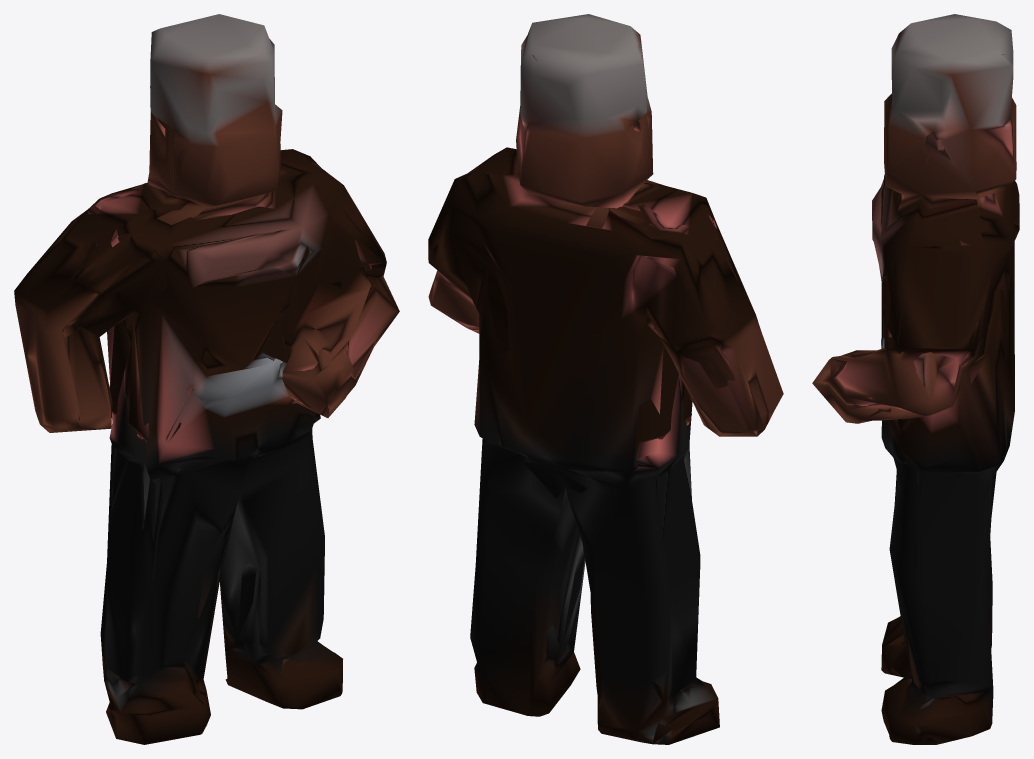
File: gen3d-gang-lod0.glb
3 views of the same model, side by side, from view 1: azimuth 30°, elevation 25°; view 2: azimuth 150°, elevation 25°; view 3: azimuth 270°, elevation 25° (orthographic). The views are drawn at different scales.
Parts seen in each view (by area): view 1: part_0; view 2: part_0; view 3: part_0.
Part boxes in pixels (<box>): part_0: <box>14,14,399,744</box>; part_0: <box>428,14,783,744</box>; part_0: <box>812,14,1019,744</box>.
Size of the model in its own units: 0.532 by 1 by 0.2854.
